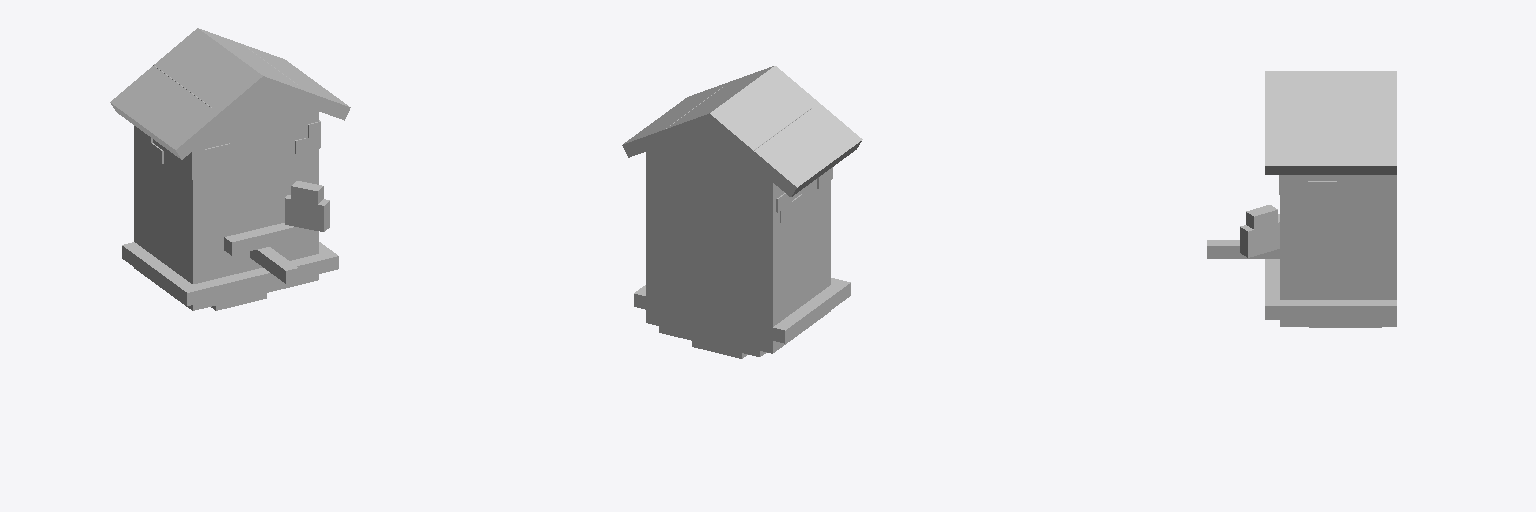
The model's file is 622_birdhouse.obj.
3 renders of one model, left to right at view 1: azimuth 30°, elevation 25°; view 2: azimuth 150°, elevation 25°; view 3: azimuth 270°, elevation 25°, orthographic.
Visible parts, largest first — view 1: box1, roof1, box5, base1, box4, roof2, stick, door1, shelf, base2, door2, cloud4 (+1 smaller); view 2: box1, roof1, box5, box4, base1, roof2, base2, roof4, base3; view 3: roof2, box1, box5, base1, box4, door1, base2, cloud7, shelf, door2, cloud11.
Part boxes in pixels (x1,y1,x2,y2): box1: (134, 102, 318, 217); roof1: (110, 28, 268, 159); box5: (134, 202, 318, 283); base1: (122, 242, 338, 305); box4: (134, 176, 285, 244); roof2: (198, 28, 350, 120); stick: (224, 223, 294, 255); door1: (285, 195, 329, 231); shelf: (250, 247, 298, 283); base2: (134, 268, 318, 310); door2: (291, 181, 323, 204); cloud4: (183, 143, 229, 165); box1: (646, 138, 830, 260); roof1: (703, 66, 862, 196); box5: (646, 246, 830, 326); box4: (646, 219, 830, 287); base1: (634, 278, 850, 343); roof2: (622, 66, 773, 157); base2: (646, 310, 830, 353); roof4: (665, 87, 811, 162); base3: (659, 326, 766, 356); roof2: (1265, 71, 1396, 174); box1: (1280, 175, 1396, 233); box5: (1280, 260, 1396, 299); base1: (1265, 259, 1396, 319); box4: (1280, 234, 1396, 259); door1: (1240, 218, 1279, 257); base2: (1280, 320, 1396, 326); cloud7: (1279, 181, 1336, 194); shelf: (1207, 240, 1279, 258); door2: (1246, 205, 1277, 229); cloud11: (1346, 188, 1389, 200).
Size of the model in its own units: 0.433 by 0.875 by 0.5001.